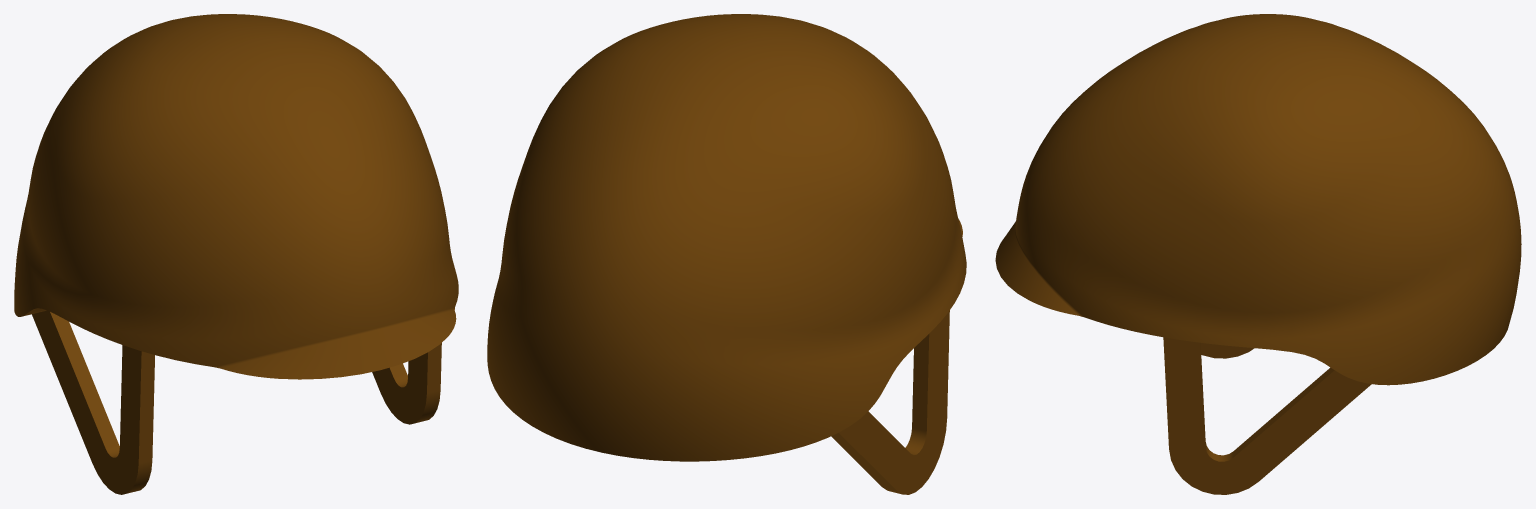
The model's file is jockey_helmet_low_poly.fbx.
3 views of the same model, side by side, from view 1: azimuth 30°, elevation 25°; view 2: azimuth 150°, elevation 25°; view 3: azimuth 270°, elevation 25° (orthographic). The views are drawn at different scales.
Parts seen in each view (by area): view 1: JockeyHelmet; view 2: JockeyHelmet; view 3: JockeyHelmet.
Boxes of the visible parts, x1,y1,x2,y2 form: JockeyHelmet: [14, 14, 458, 494]; JockeyHelmet: [487, 14, 966, 494]; JockeyHelmet: [995, 14, 1521, 494].
Size of the model in its own units: 0.1958 by 0.2082 by 0.2567.
